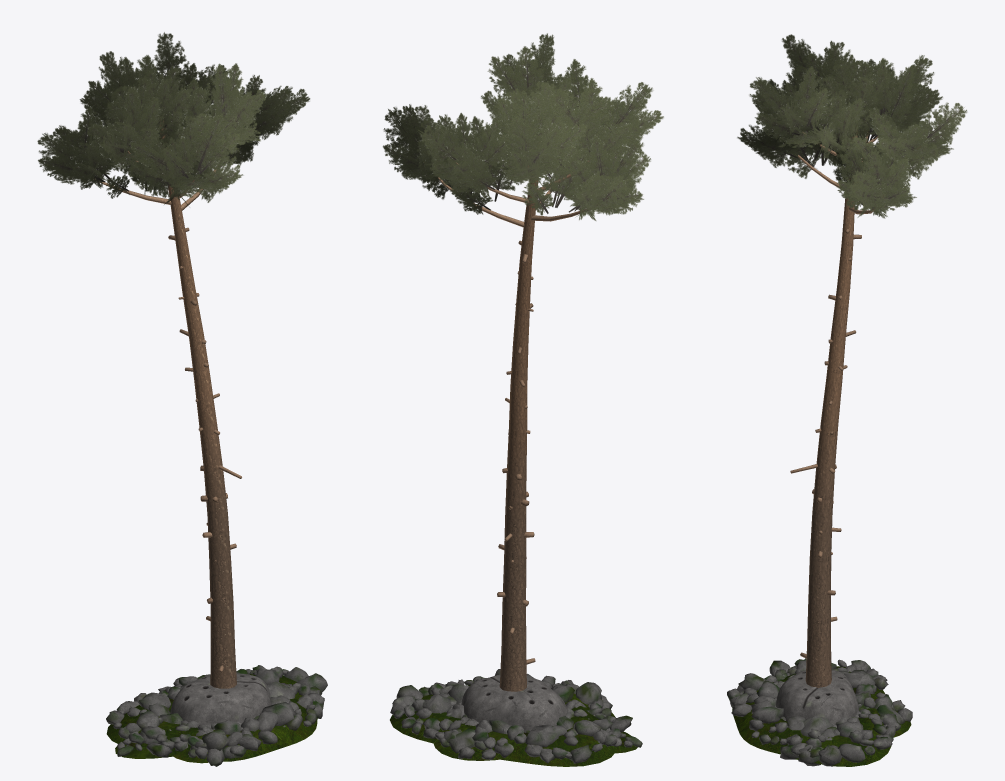
Rendered from cairnfield.glb.
3 views of the same model, side by side, from view 1: azimuth 30°, elevation 25°; view 2: azimuth 150°, elevation 25°; view 3: azimuth 270°, elevation 25° (orthographic). The views are drawn at different scales.
Visible parts, largest first — view 1: karsikko, roykkio_c, kuppikivi, roykkio_b, roykkio_a; view 2: karsikko, roykkio_c, kuppikivi, roykkio_a, roykkio_b; view 3: karsikko, roykkio_c, kuppikivi, roykkio_b, roykkio_a.
Boxes of the visible parts, x1,y1,x2,y2 form: karsikko: (37,32,310,688); roykkio_c: (106,665,327,761); kuppikivi: (170,673,271,724); roykkio_b: (115,681,324,758); roykkio_a: (158,678,286,766); karsikko: (383,33,663,691); roykkio_c: (390,669,621,766); kuppikivi: (461,674,567,732); roykkio_a: (433,693,615,760); roykkio_b: (423,684,642,753); karsikko: (737,34,967,687); roykkio_c: (727,658,905,766); kuppikivi: (776,669,858,724); roykkio_b: (769,659,848,766); roykkio_a: (737,681,912,737).
Size of the model in its own units: 7.02 by 15.56 by 5.81.
Materials: 4 (4 with a texture image).
